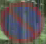No waiting: (2, 0, 43, 43)
